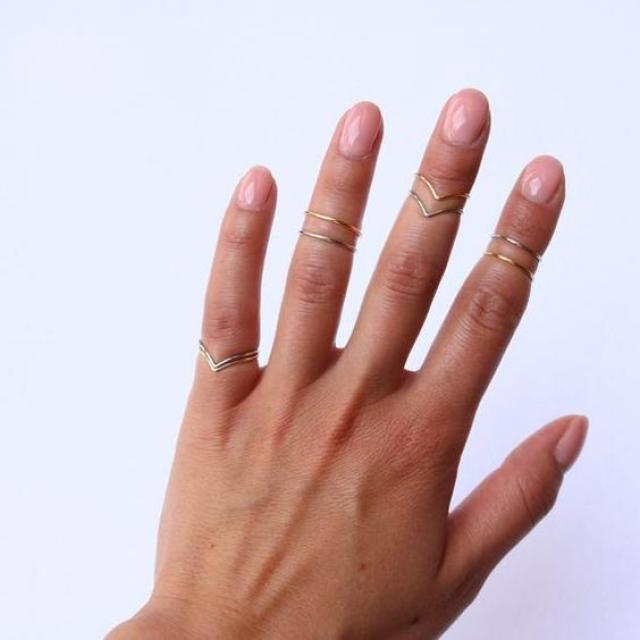Fingernail: (442, 89, 489, 146), (340, 102, 381, 160), (523, 159, 562, 204), (557, 418, 589, 470), (239, 168, 271, 208)
